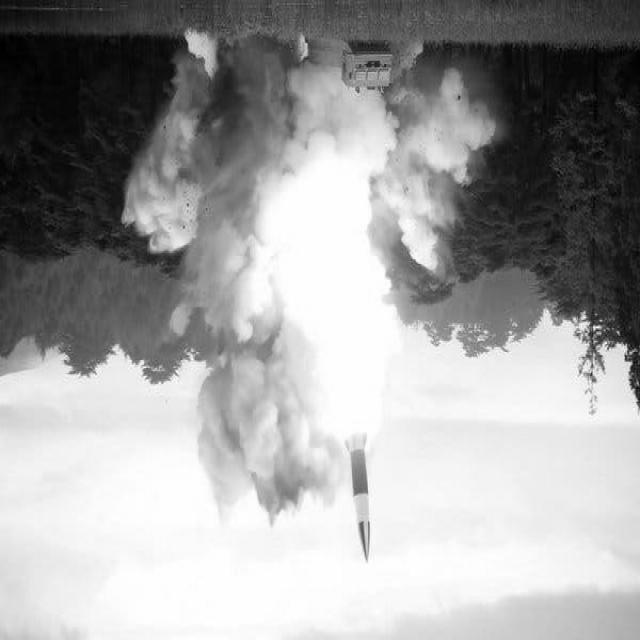missile: (338, 432, 378, 574)
